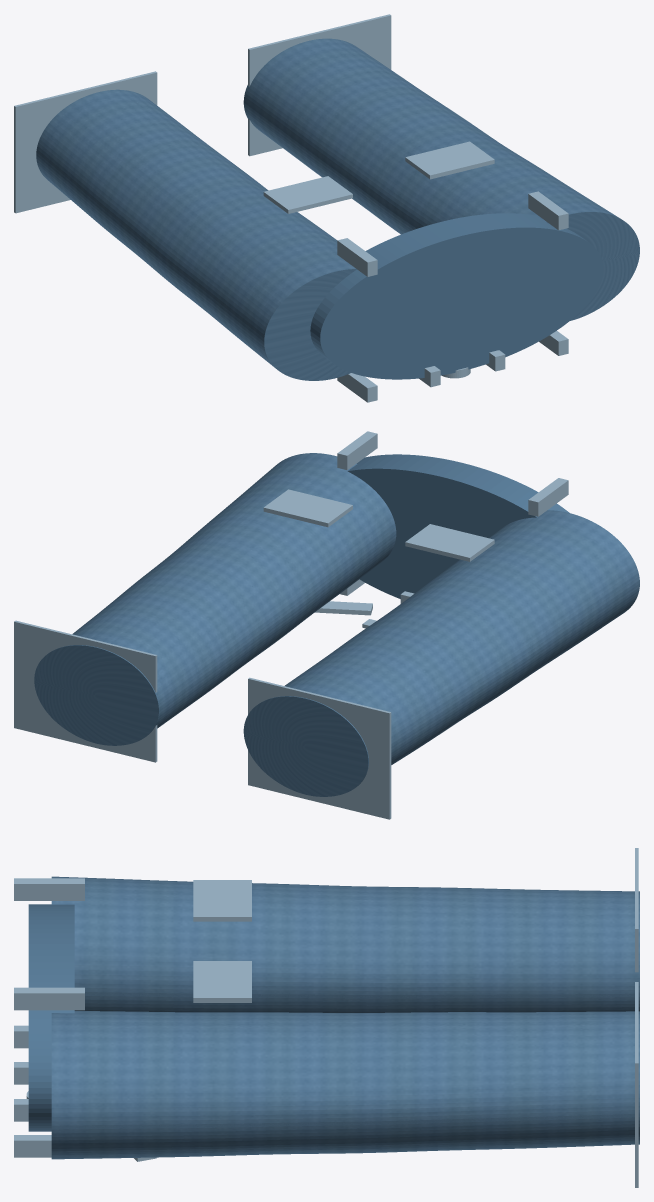
Rendered from calca-jeans.gltf.
3 renders of one model, top to bottom at view 1: azimuth 30°, elevation 25°; view 2: azimuth 150°, elevation 25°; view 3: azimuth 270°, elevation 25°, orthographic. The views are drawn at different scales.
Visible parts, largest first — view 1: leg_L, leg_R, waistband, hem_-1, hem_1, jeans_back_1, jeans_back_-1, loop_back_0.62, loop_back_-0.62, loop_front_-0.62; view 2: leg_L, leg_R, waistband, hem_-1, hem_1, jeans_back_-1, jeans_back_1, loop_back_0.62, loop_back_-0.62, jeans_front_1; view 3: leg_R, leg_L, waistband, jeans_back_-1, jeans_back_1, loop_back_0.62, loop_back_-0.62, loop_front_0.62, hem_1, hem_-1.
Boxes of the visible parts, <box> form: leg_L: <box>36,89,356,380</box>; leg_R: <box>243,38,639,320</box>; waistband: <box>310,213,603,379</box>; hem_-1: <box>14,71,157,213</box>; hem_1: <box>248,14,391,156</box>; jeans_back_1: <box>405,141,494,179</box>; jeans_back_-1: <box>263,176,352,213</box>; loop_back_0.62: <box>528,191,568,230</box>; loop_back_-0.62: <box>337,238,377,276</box>; loop_front_-0.62: <box>337,373,377,402</box>; leg_L: <box>243,510,639,796</box>; leg_R: <box>34,453,396,745</box>; waistband: <box>347,454,569,598</box>; hem_-1: <box>248,677,391,819</box>; hem_1: <box>14,620,157,762</box>; jeans_back_-1: <box>405,524,494,561</box>; jeans_back_1: <box>263,489,352,527</box>; loop_back_0.62: <box>337,431,377,470</box>; loop_back_-0.62: <box>528,478,568,516</box>; jeans_front_1: <box>315,601,372,615</box>; leg_R: <box>51,1011,639,1159</box>; leg_L: <box>51,876,639,1012</box>; waistband: <box>28,904,74,1131</box>; jeans_back_-1: <box>193,880,251,921</box>; jeans_back_1: <box>193,961,251,1002</box>; loop_back_0.62: <box>14,987,84,1010</box>; loop_back_-0.62: <box>14,878,84,900</box>; loop_front_0.62: <box>14,1135,51,1157</box>; hem_1: <box>635,982,638,1187</box>; hem_-1: <box>635,848,638,972</box>.
Bounding box in the file's own units: 2.44 × 0.89 × 3.
2 materials, 1 textured.
